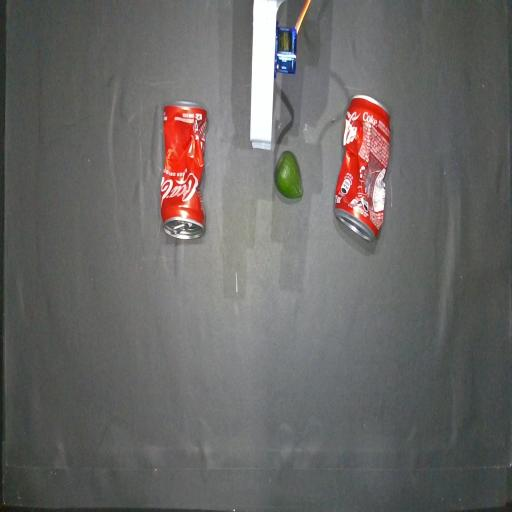higo: (275, 151, 302, 199)
lata_defectuoso: (334, 95, 390, 241), (161, 102, 207, 238)
